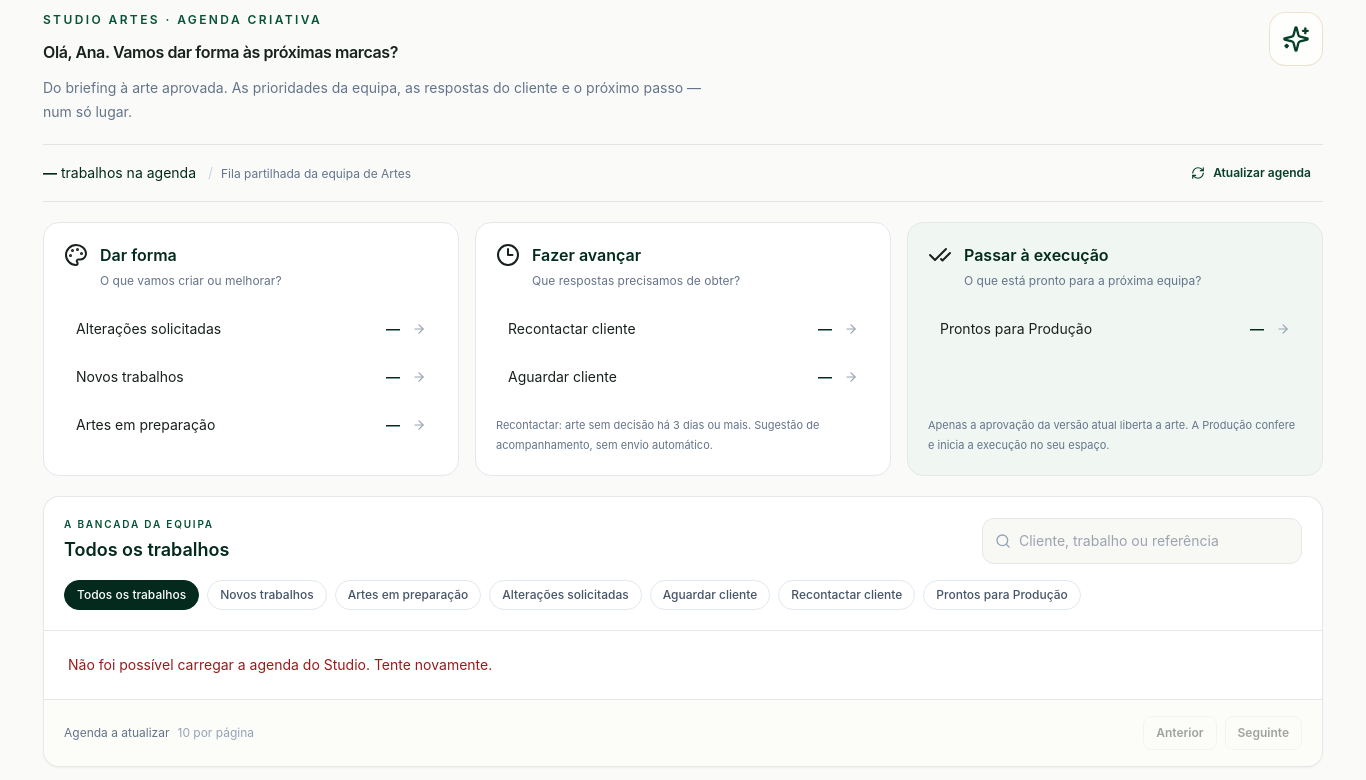
Test: Studio agenda › shows failure and offers retry instead of a false empty queue
This screenshot has width=1366, height=780.
Expected: the message shows "Não foi possível carregar", [68,656,492,673]
Click the button "Atualizar agenda": (1251, 173) [1179,157,1323,189]
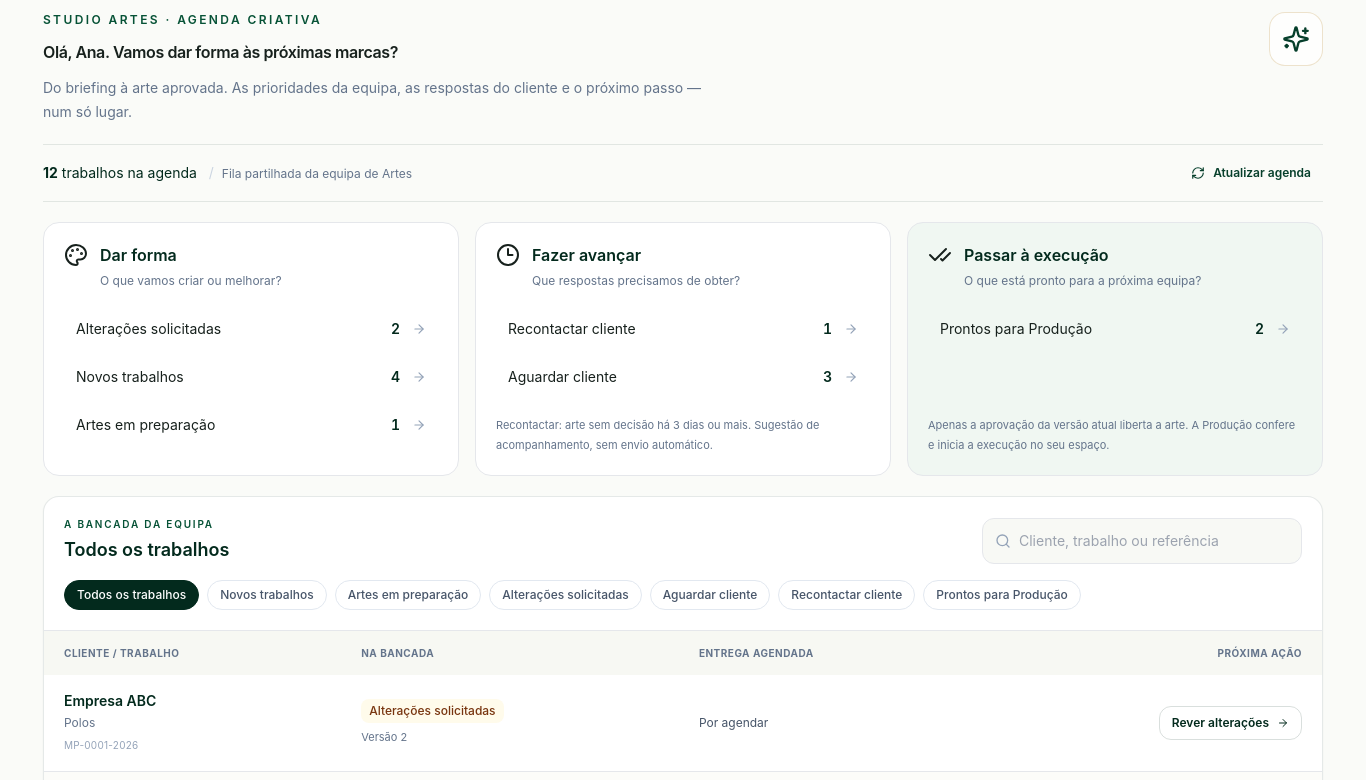
Expected: the table is shown, [44,631,1322,771]
